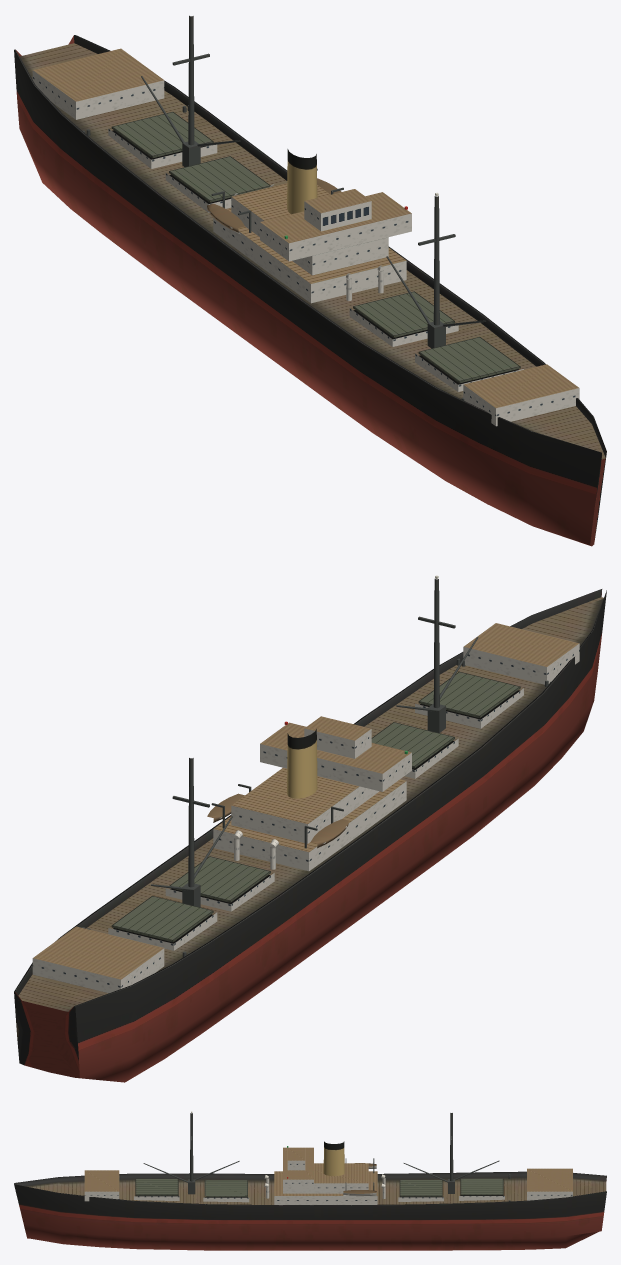
Rendered from cargo.glb.
The picture shows the model from 3 angles, top to bottom: view 1: azimuth 30°, elevation 25°; view 2: azimuth 150°, elevation 25°; view 3: azimuth 270°, elevation 25°; orthographic projection. The views are drawn at different scales.
Parts seen in each view (by area): view 1: hull, hold_hatch_1, hold_hatch_3, hold_hatch_2, hold_hatch_4; view 2: hull, hold_hatch_4, hold_hatch_1, hold_hatch_3, hold_hatch_2; view 3: hull, hold_hatch_1, hold_hatch_4, hold_hatch_2, hold_hatch_3.
Part boxes in pixels (x1,y1,x2,y2): hull: (14,15,606,546); hold_hatch_1: (418,337,520,383); hold_hatch_3: (169,156,270,202); hold_hatch_2: (353,291,454,337); hold_hatch_4: (111,112,213,158); hull: (14,575,606,1082); hold_hatch_4: (111,896,213,942); hold_hatch_1: (418,671,520,717); hold_hatch_3: (169,856,270,902); hold_hatch_2: (371,722,454,768); hull: (14,1111,606,1250); hold_hatch_1: (135,1178,178,1195); hold_hatch_4: (460,1178,503,1195); hold_hatch_2: (204,1180,247,1196); hold_hatch_3: (399,1180,442,1196).
Size of the model in its own units: 17 by 31.69 by 134.
8 materials, 7 textured.
